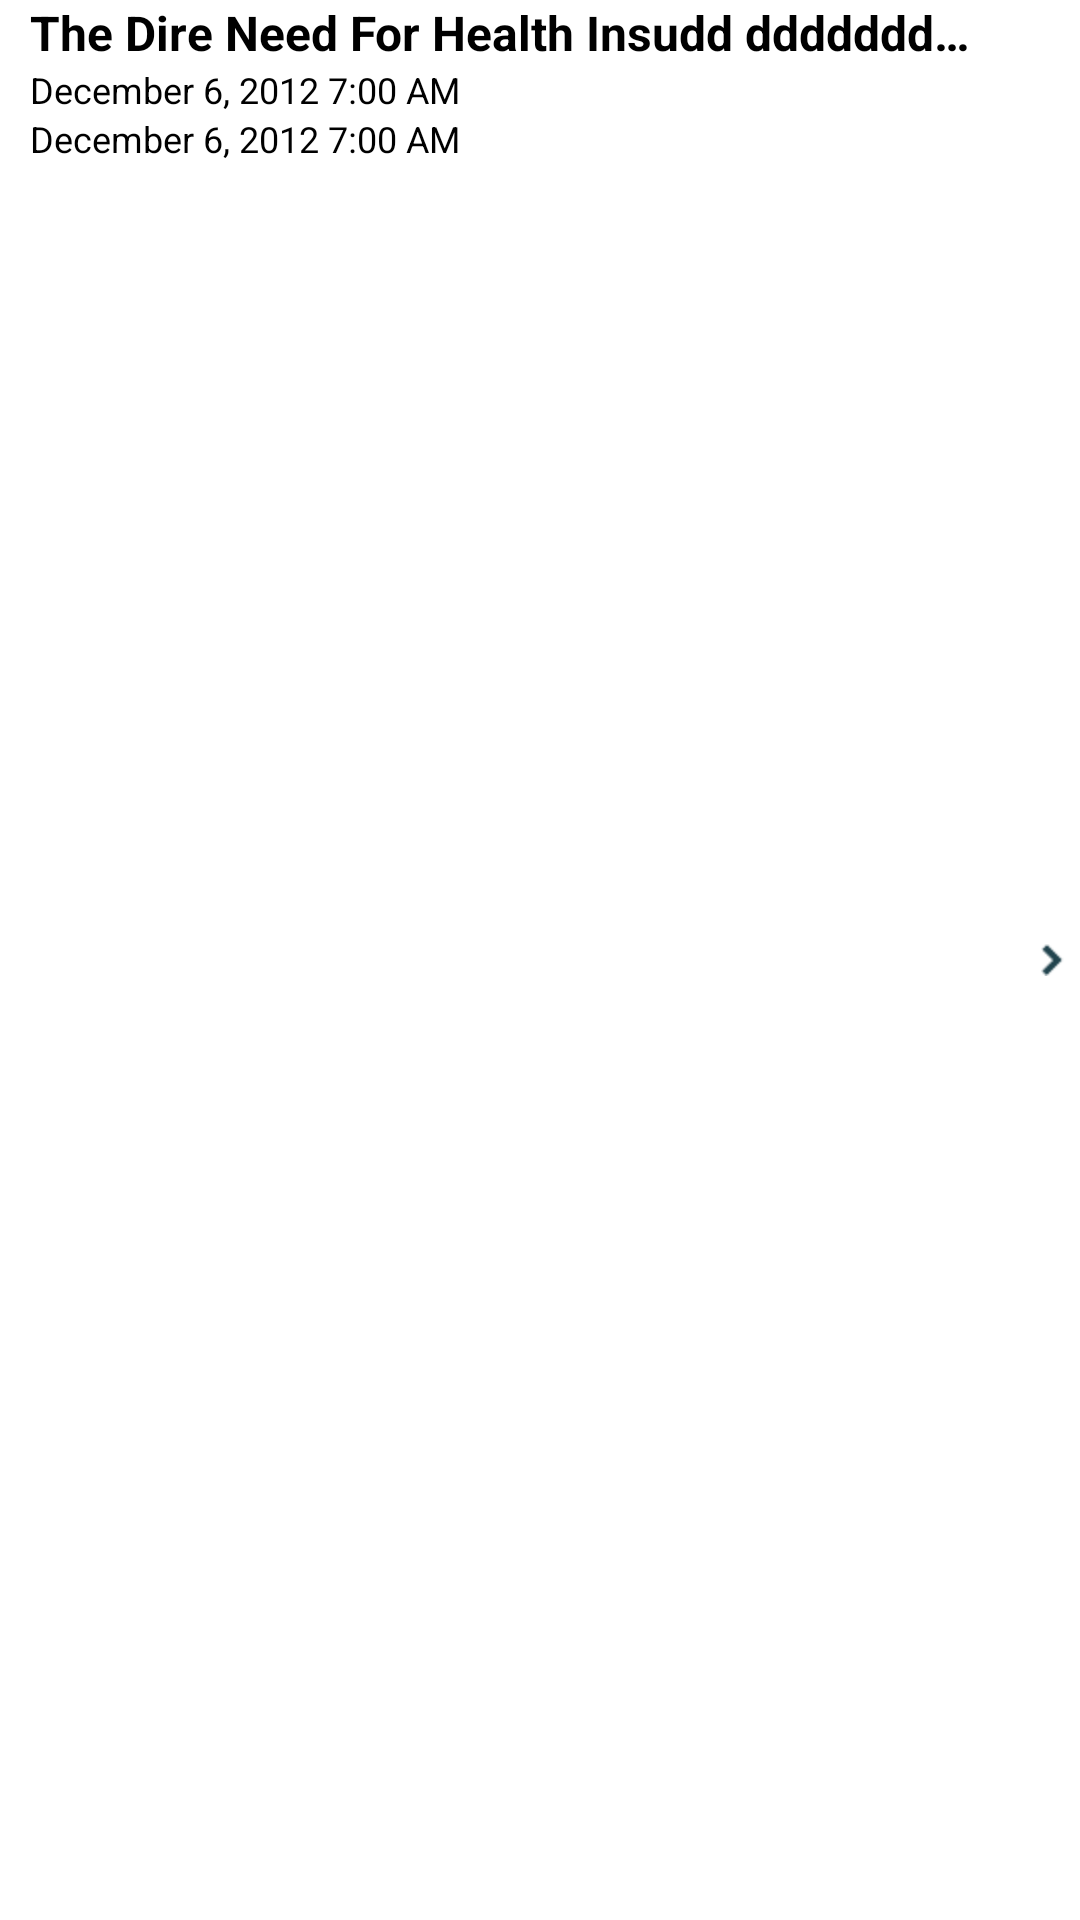

Icons on this 1080*1920 Android screen, each with the point to tap as [x,y]:
arrow right: [1051,960]
